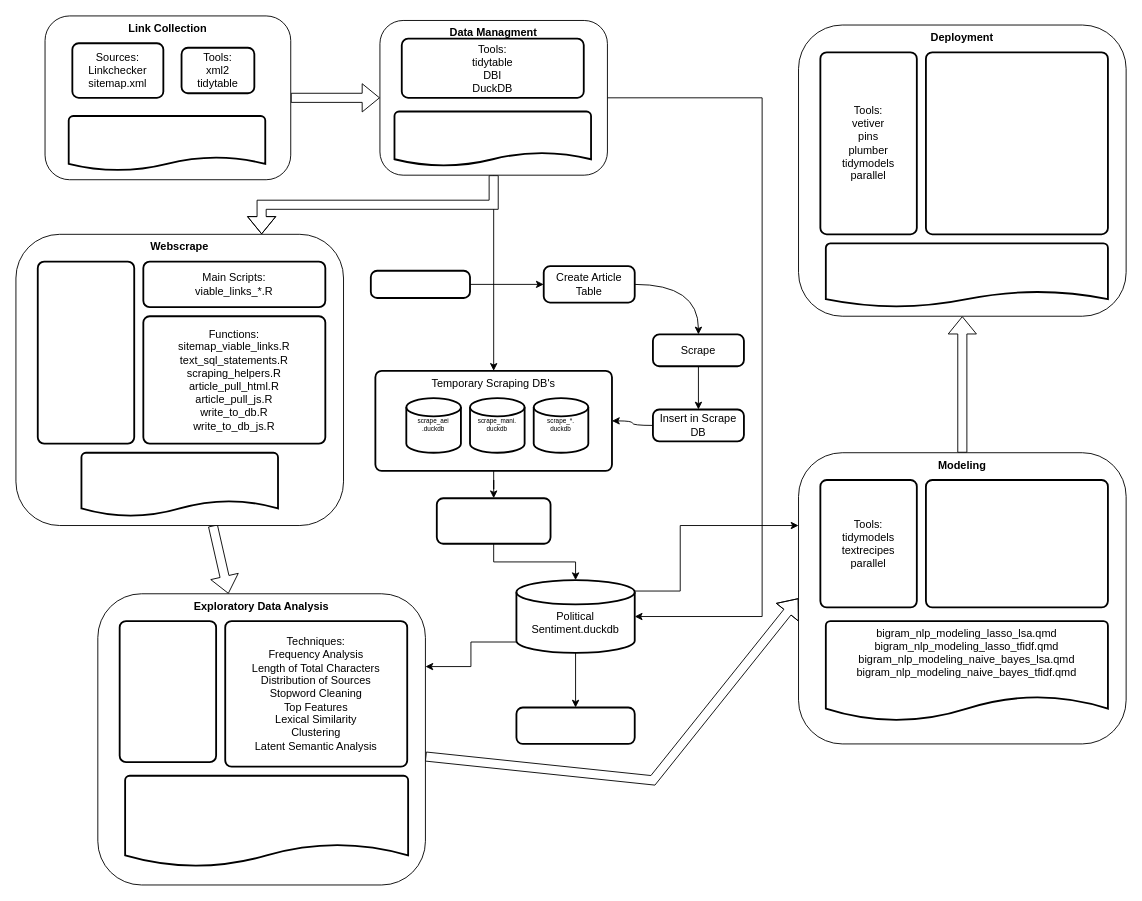
The diagram is 1142 pixels wide and 901 high, and some of its shapes have lost their labels. The shapes that lost their labels are listed below. From the top down, each one's box as (x1, y1, x2, y2) in pixels, then its label:
(67, 115, 266, 171): sitemap_collection_and_cleanup.qmd sitemap_cleanup_linkchecker.qmd
(393, 110, 592, 167): data_managment_duckdb.qmd data_management_scrape_db.qmd
(925, 51, 1108, 235): Future Work
(369, 269, 470, 298): Create Scrape DB
(36, 260, 135, 444): Tools: xml2 rvest RSelenium tidytable DBI DuckDB glue
(80, 451, 278, 517): link_preparation.qmd scraping_functions_refactor.qmd web_scraping_testing.qmd
(435, 497, 551, 544): EXPORT DB Create Article Table COPY FROM
(925, 479, 1108, 608): Models: Regularized Regresssion Naive Bayes
(118, 620, 217, 763): Tools: quanteda tidytext tidytable ggplot2
(515, 706, 635, 744): EXPORT DATABASE Backup in Parquet
(124, 774, 409, 867): exploratory_data_analysis_corpus.qmd exploratory_data_analysis_quanteda.qmd
